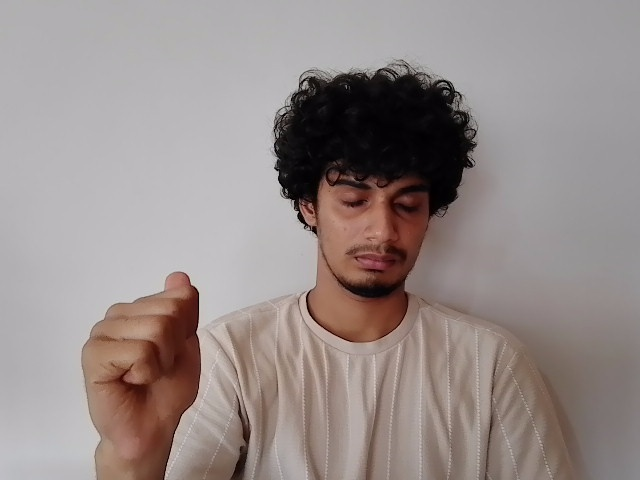how: (71, 269, 206, 431)
